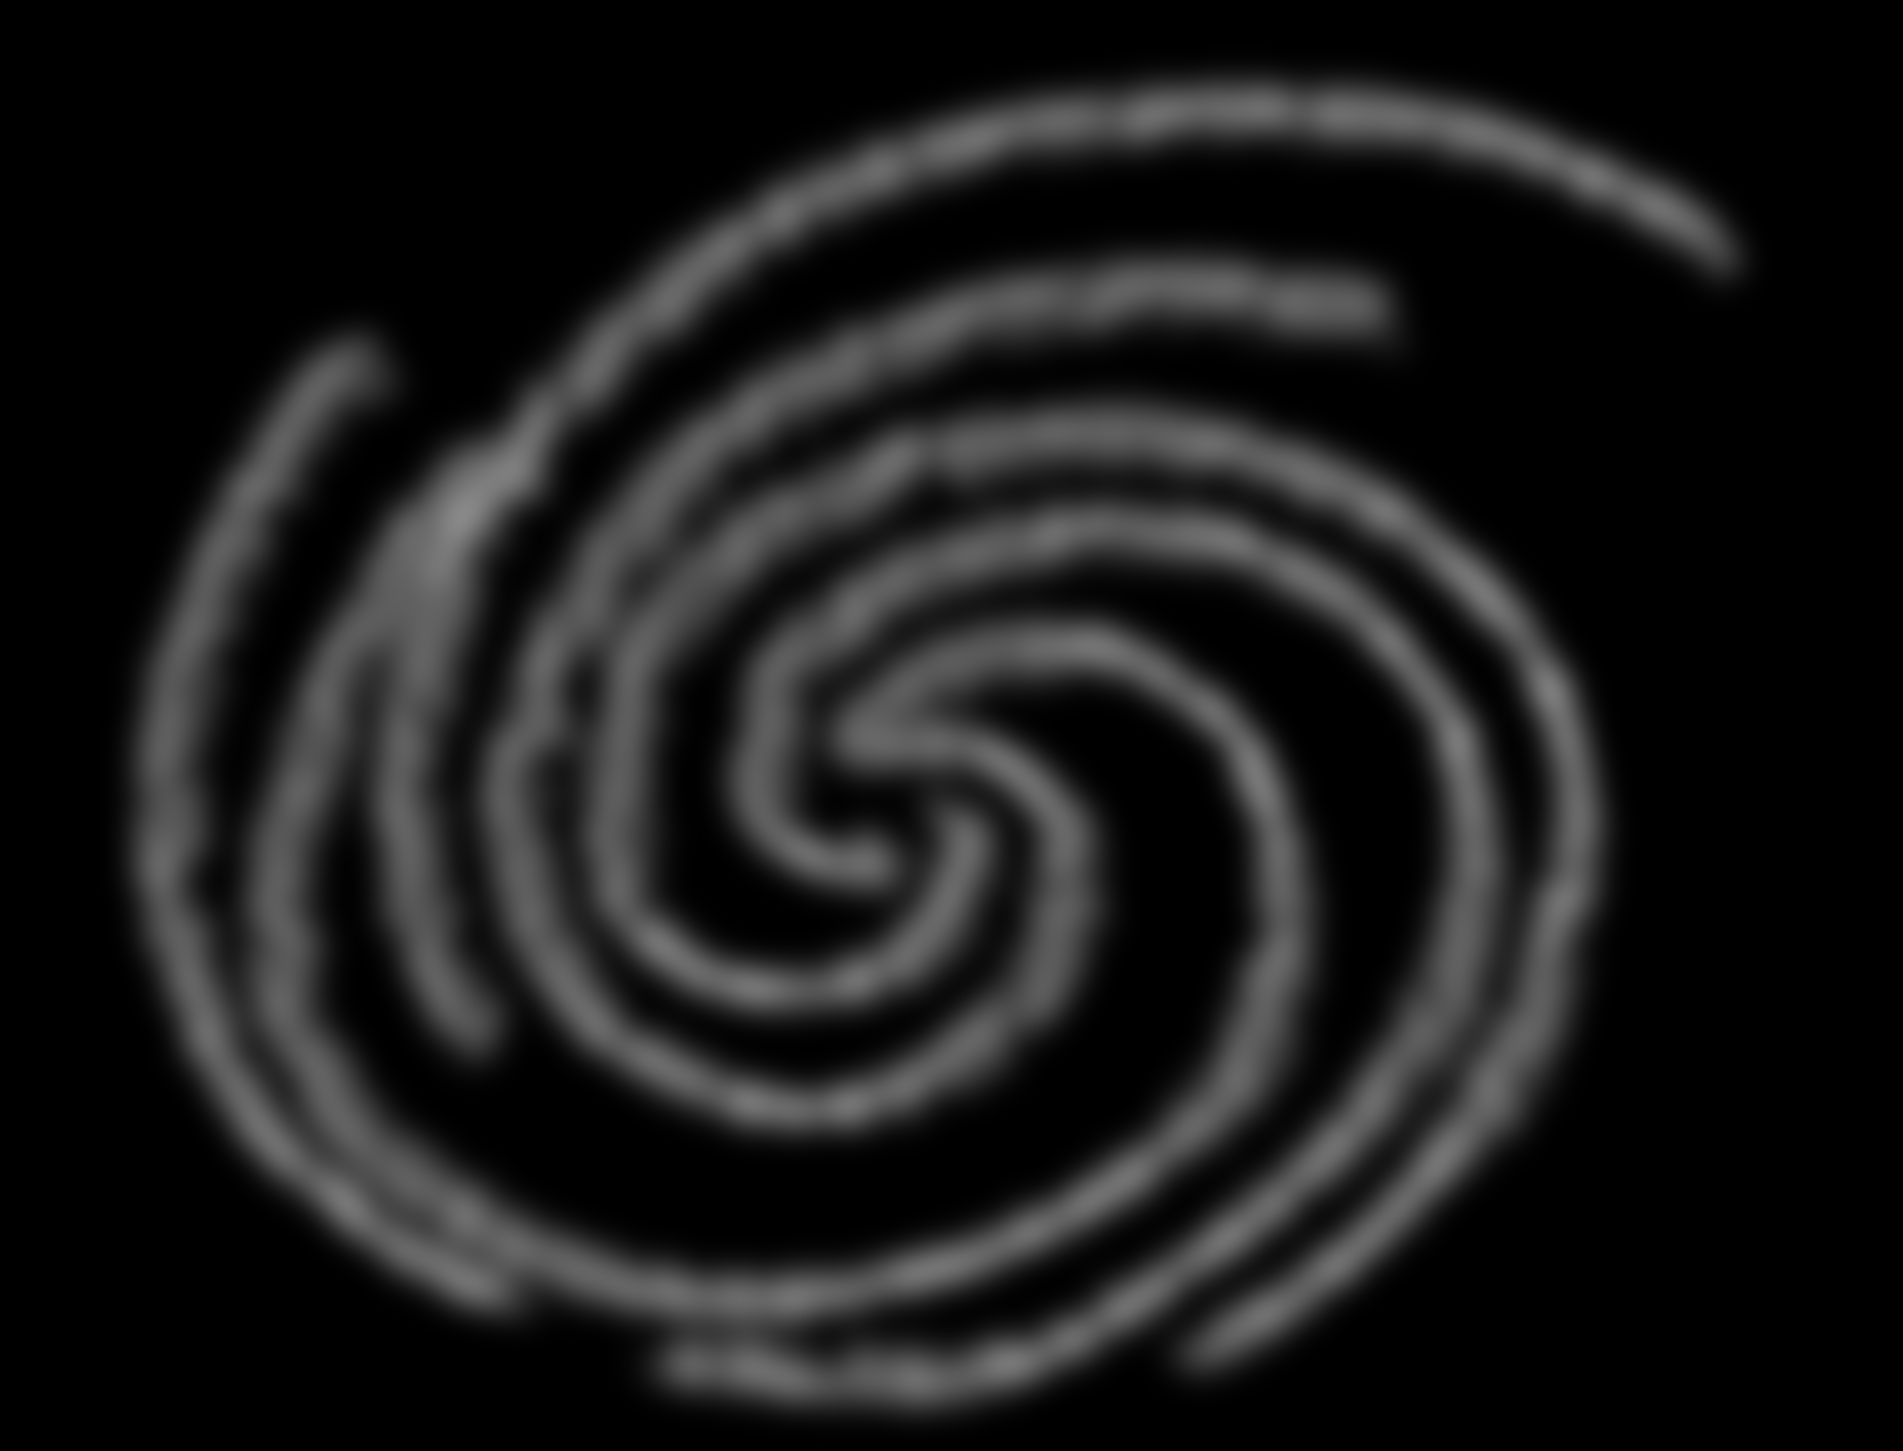vortex: (44, 53, 1819, 1430)
